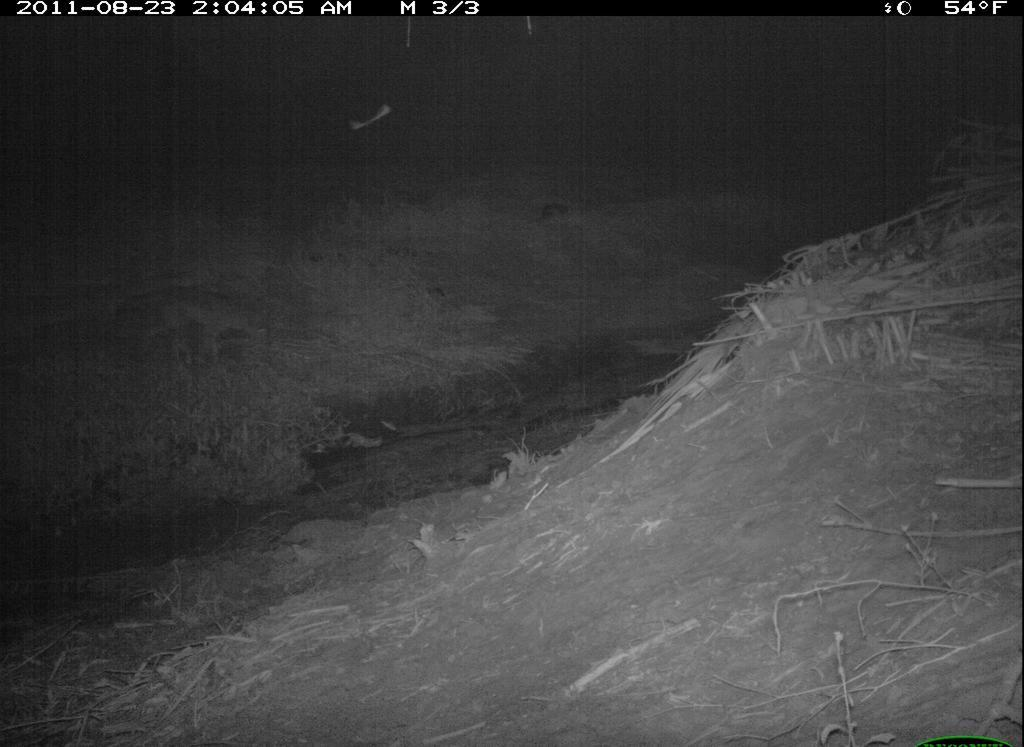coyote: (110, 281, 272, 370)
